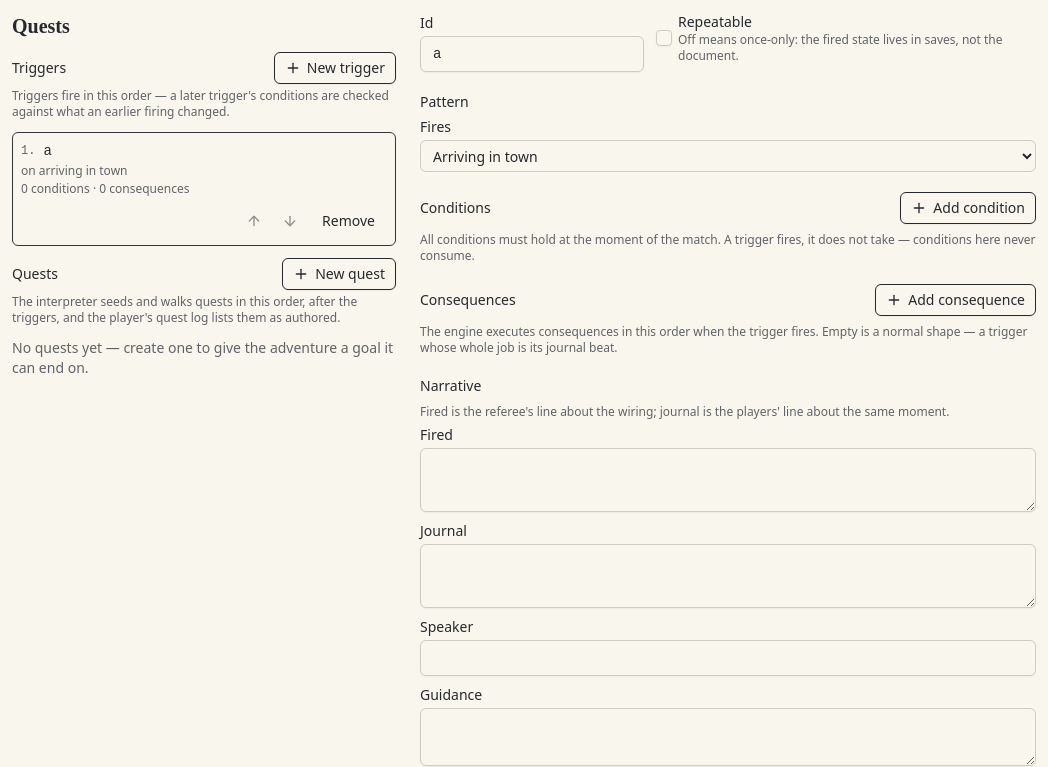
it: adding a condition renders the builder with consumes suppressed
Click the button "Add condition" at (968, 208), box [900,192,1036,224]
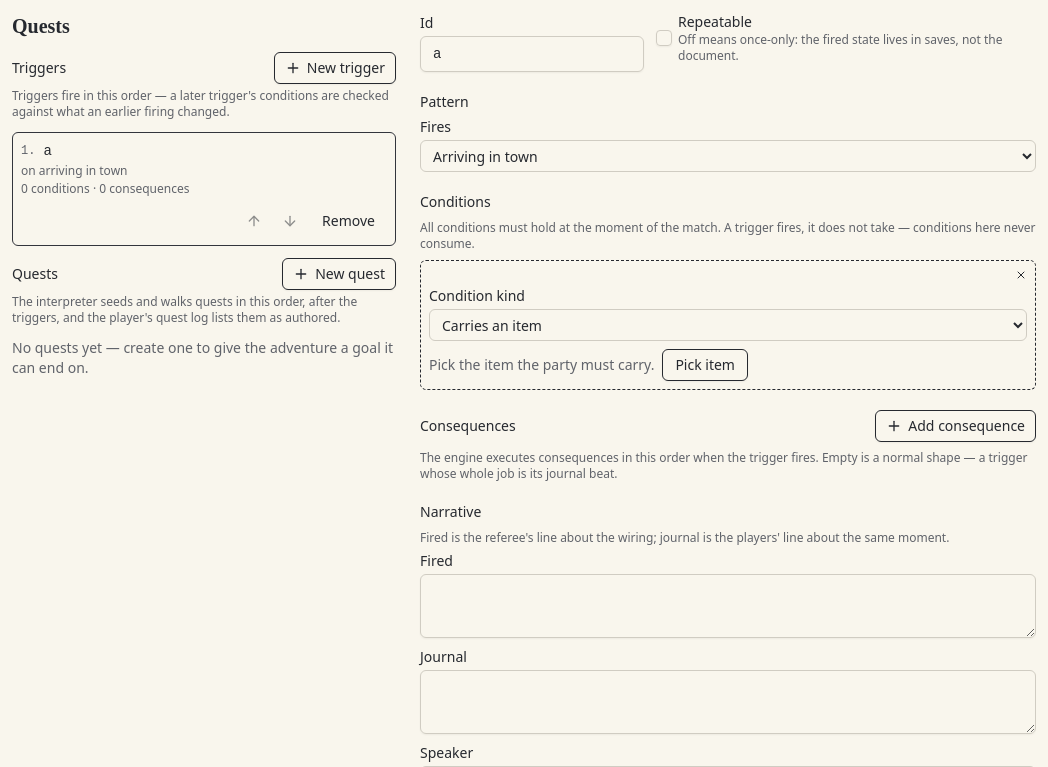
Expected: the dropdown labelled "Condition kind" is shown, [429,309,1027,341]
